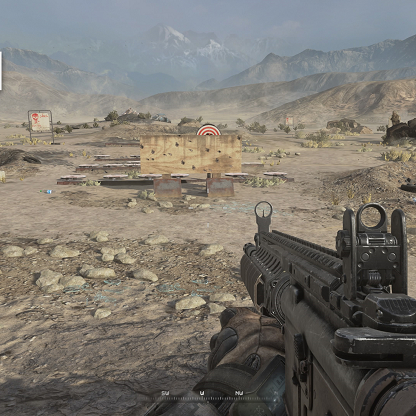target: (196, 124, 222, 135)
